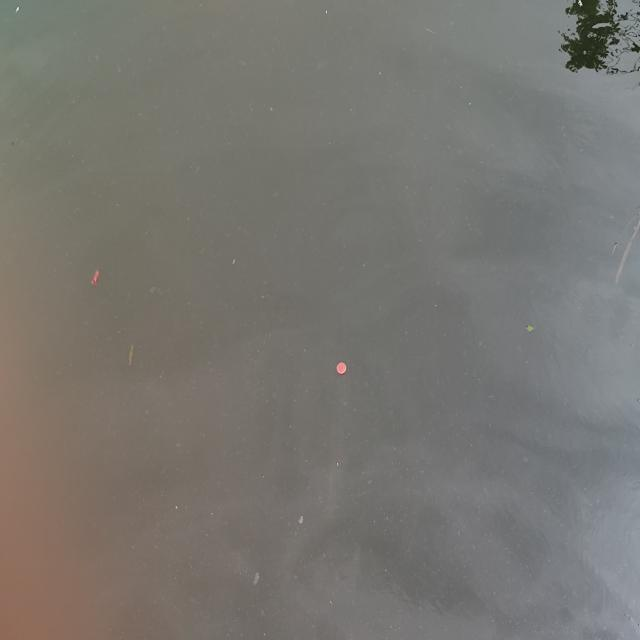Botol Plastik: (334, 358, 350, 380)
